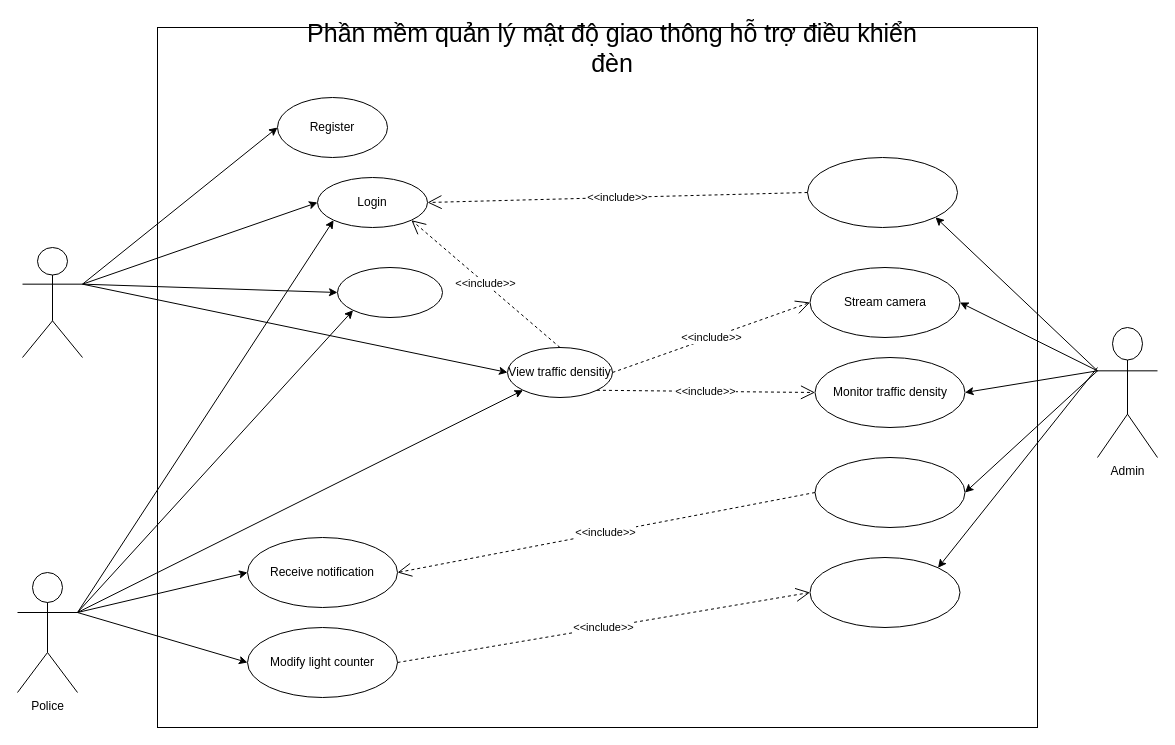
This 1175x745 diagram has some shape labels left out. The shapes that lost their labels are listed below. From the top down, each one's centre as x and y in pixels, then its label:
At point (882, 192): "Verify log in".
At point (52, 302): "Viewer".
At point (389, 292): "Logout".
At point (889, 492): "Send notification".
At point (884, 592): "Display light counter value".
